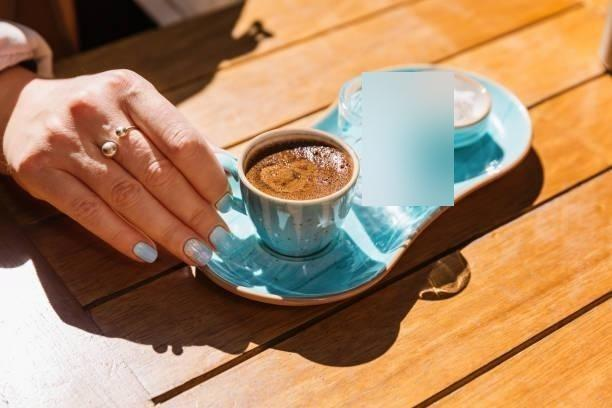cup-handle: (208, 126, 361, 259)
